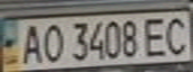0: (103, 18, 124, 60)
3: (66, 19, 90, 62)
4: (87, 18, 106, 61)
8: (121, 16, 142, 60)
A: (18, 21, 45, 65)
C: (160, 14, 193, 56)
E: (139, 15, 172, 58)
O: (39, 20, 66, 64)
